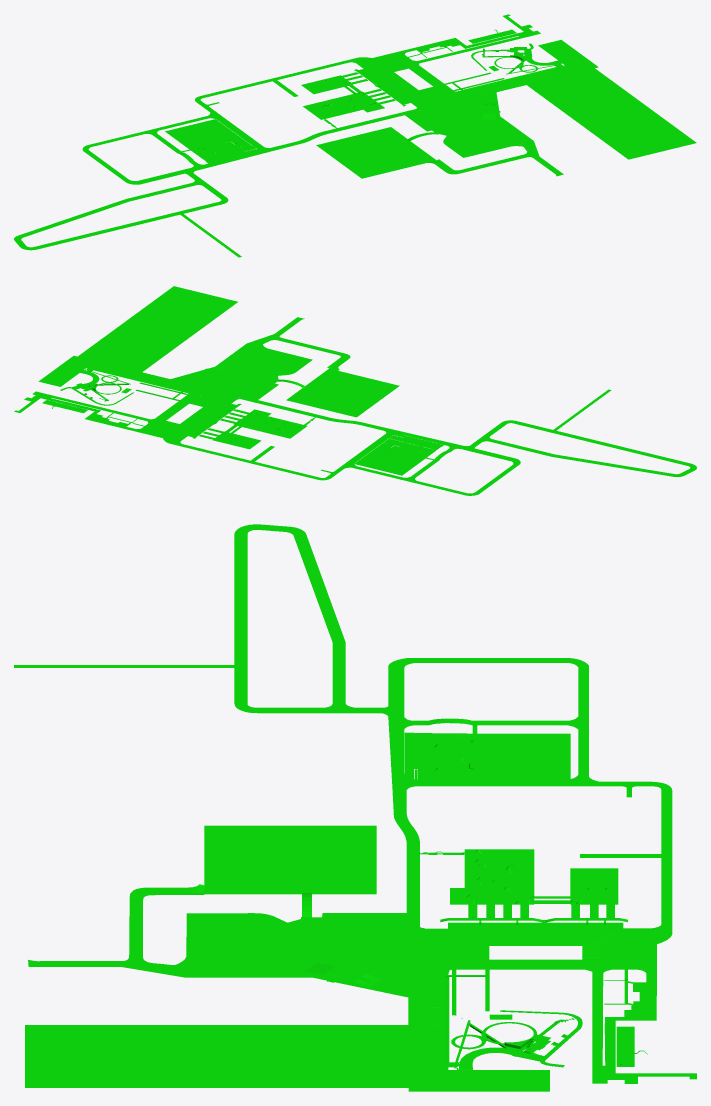
Rendered from Walkable.fbx.
The picture shows the model from 3 angles, top to bottom: view 1: azimuth 30°, elevation 25°; view 2: azimuth 150°, elevation 25°; view 3: azimuth 270°, elevation 25°; orthographic projection. The views are drawn at different scales.
Parts seen in each view (by area): view 1: polySurface415523, polySurface415496, polySurface415505, polySurface415492, polySurface415497, polySurface415491, polySurface415495, polySurface415469, pPlane22, polySurface415490, pPlane37; view 2: polySurface415523, polySurface415496, polySurface415505, polySurface415492, polySurface415497, polySurface415491, polySurface415495, polySurface415469, pPlane22, polySurface415490, pPlane37; view 3: polySurface415523, polySurface415496, polySurface415505, polySurface415492, polySurface415497, polySurface415491, polySurface415495, polySurface415469, pPlane22, polySurface415490, pPlane37, polySurface415494 (+2 smaller).
Part boxes in pixels (x1,y1,x2,y2): polySurface415523: (526, 68, 696, 159); polySurface415496: (316, 127, 563, 178); polySurface415505: (405, 92, 533, 157); polySurface415492: (351, 30, 540, 104); polySurface415497: (411, 40, 598, 110); polySurface415491: (82, 107, 420, 184); polySurface415495: (14, 171, 241, 257); polySurface415469: (165, 119, 245, 153); pPlane22: (303, 86, 405, 119); polySurface415490: (195, 59, 354, 151); pPlane37: (301, 69, 378, 94); polySurface415523: (78, 286, 237, 372); polySurface415496: (247, 317, 399, 417); polySurface415505: (171, 343, 312, 399); polySurface415492: (32, 391, 236, 444); polySurface415497: (38, 356, 240, 403); polySurface415491: (237, 396, 520, 495); polySurface415495: (465, 389, 696, 476); polySurface415469: (355, 442, 433, 475); pPlane22: (214, 403, 306, 438); polySurface415490: (176, 431, 400, 480); pPlane37: (193, 423, 261, 449); polySurface415523: (25, 1025, 409, 1087); polySurface415496: (28, 825, 376, 977); polySurface415505: (186, 913, 408, 997); polySurface415492: (448, 922, 672, 1083); polySurface415497: (408, 928, 549, 1091); polySurface415491: (388, 658, 598, 928); polySurface415495: (14, 524, 388, 715); polySurface415469: (454, 725, 570, 779); pPlane22: (440, 849, 544, 924); polySurface415490: (404, 774, 672, 928); pPlane37: (544, 868, 627, 924); polySurface415494: (404, 717, 578, 728).
Size of the model in its own units: 776 by 5.51 by 395.
